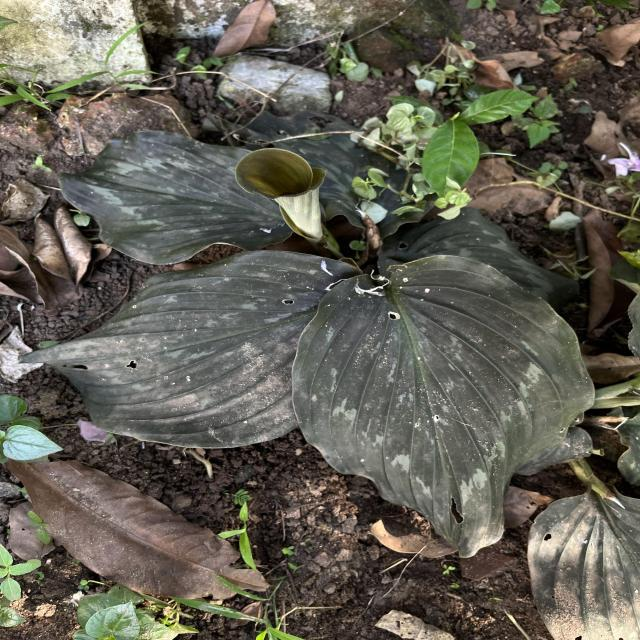Kaempferia galanga linn: (288, 252, 598, 562), (16, 247, 364, 450)
